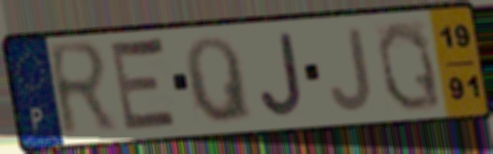E: (107, 34, 182, 135)
J: (256, 29, 306, 120), (328, 25, 375, 114)
Q: (373, 17, 445, 114), (182, 33, 256, 126)
R: (43, 37, 121, 143)
